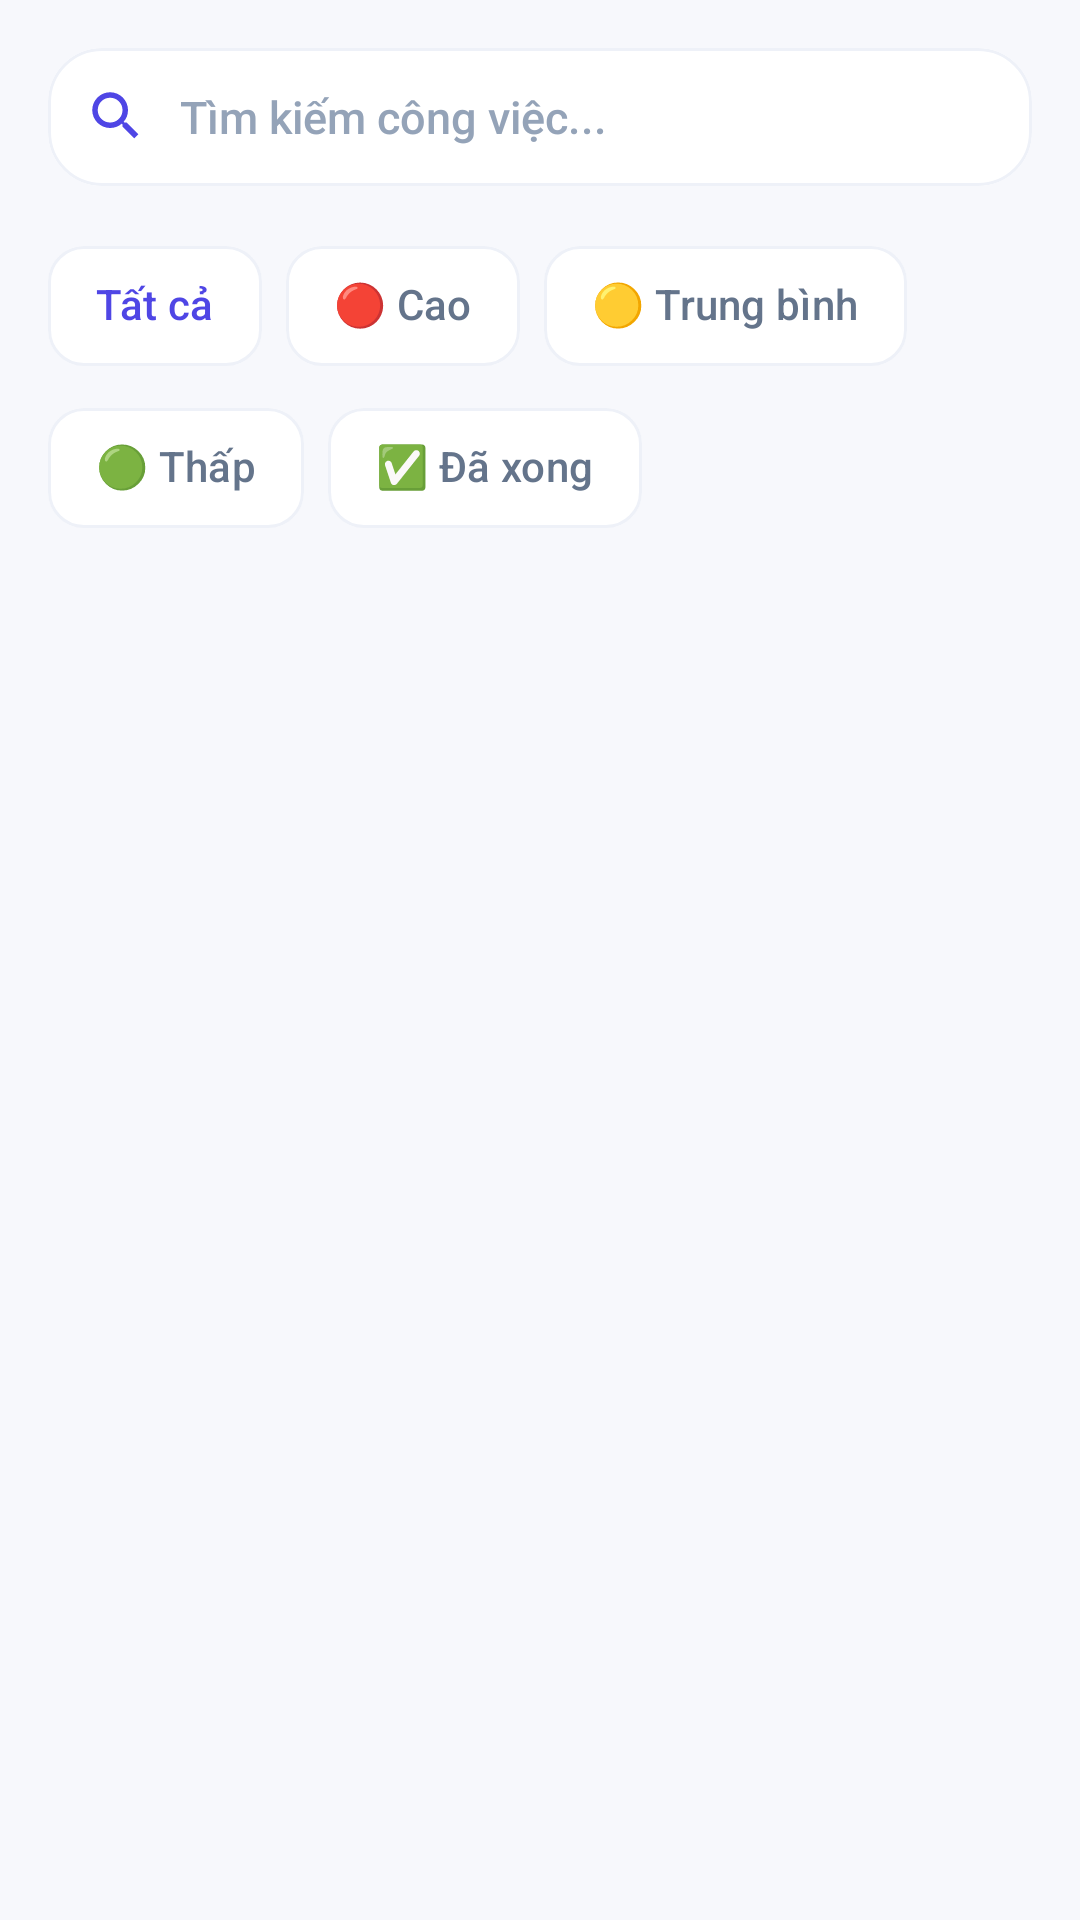

Named icons in this screenshot (1080×1920) and their bounding boxes, (x1, y1, x2, y2):
search: (92, 92, 138, 138)
